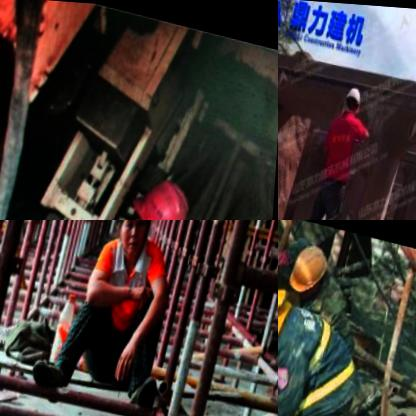helmet: (124, 164, 203, 220), (280, 232, 336, 305), (107, 220, 173, 260), (278, 267, 297, 346), (339, 79, 365, 116)
